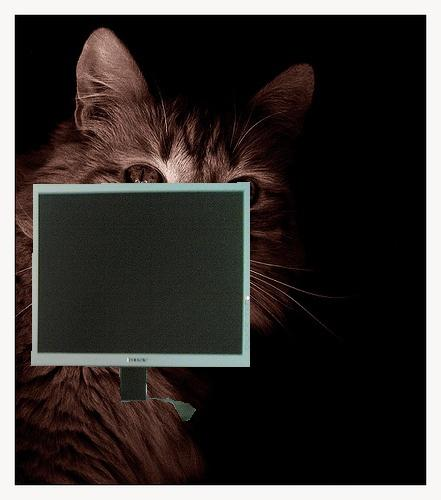tampered: (31, 183, 250, 421)
